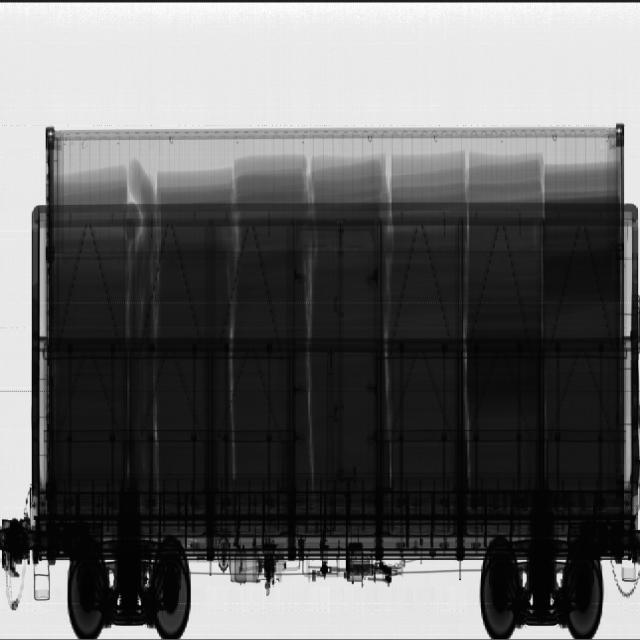fabrics: (49, 152, 625, 493)
